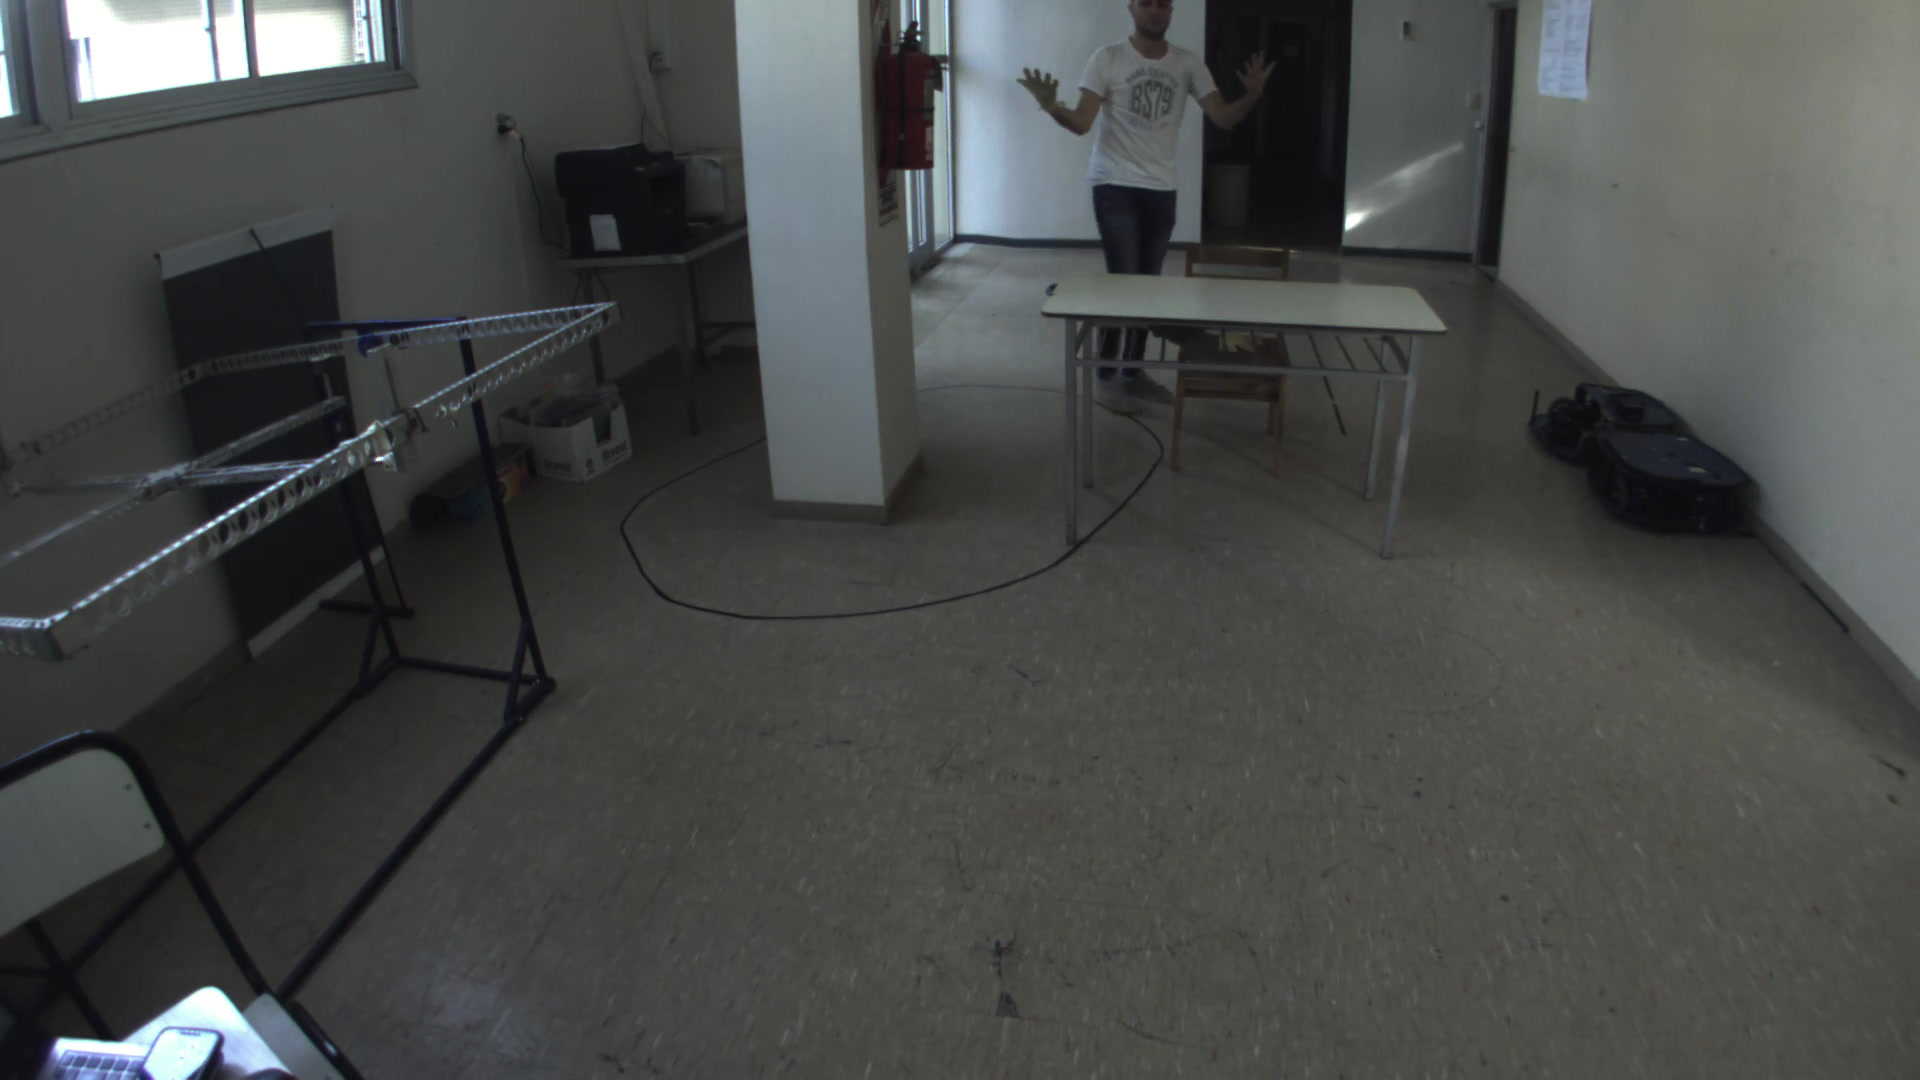hand: (1011, 62, 1085, 129), (1232, 45, 1298, 116)
